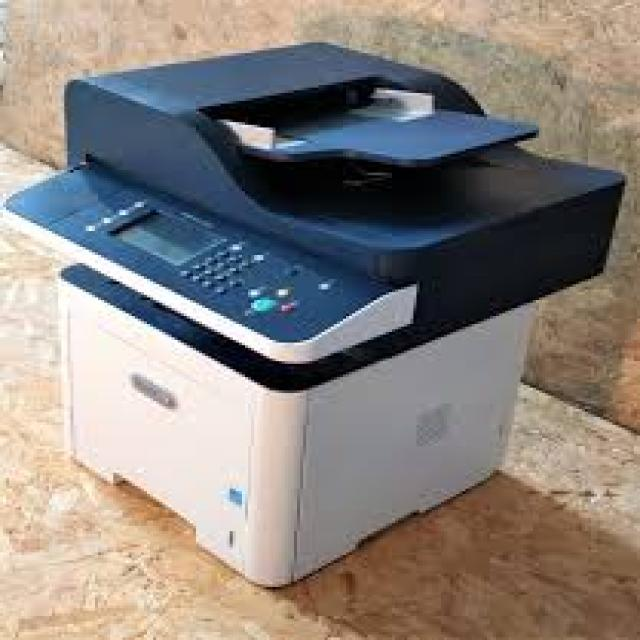printer: (0, 37, 630, 591)
